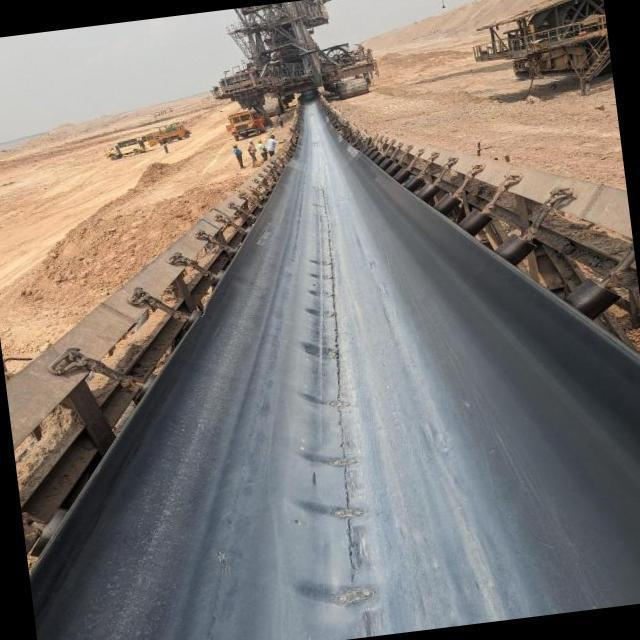Tear: (318, 187, 381, 638)
